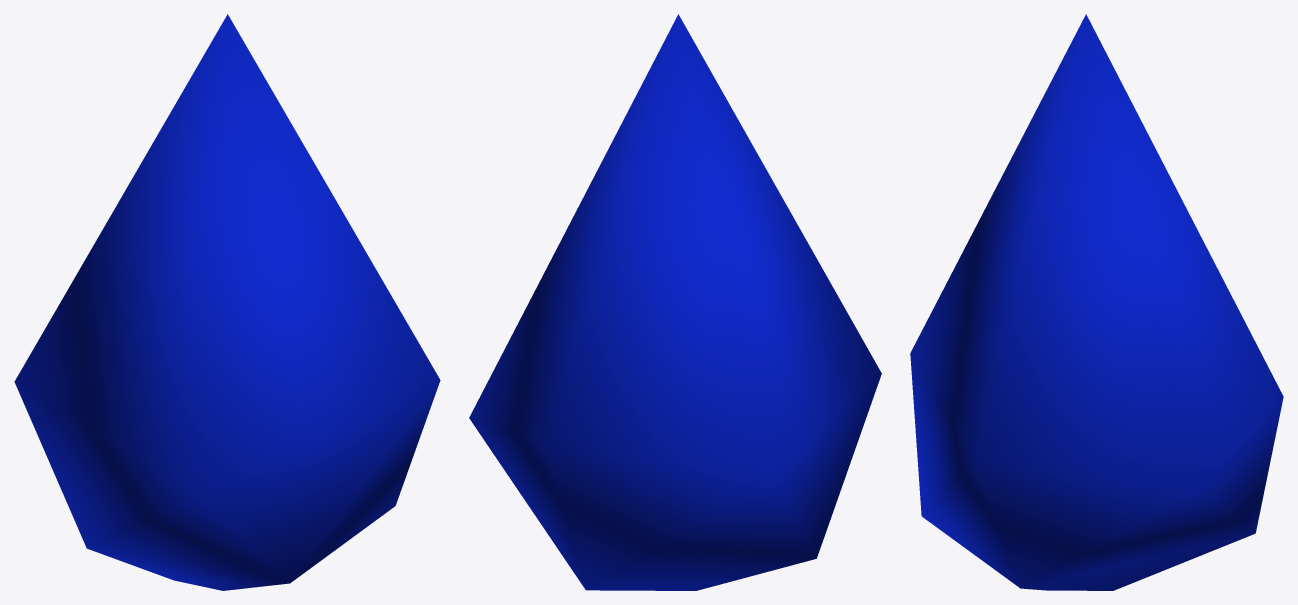
Rendered from boost_lod2.fbx.
The picture shows the model from 3 angles, left to right: view 1: azimuth 30°, elevation 25°; view 2: azimuth 150°, elevation 25°; view 3: azimuth 270°, elevation 25°; orthographic projection.
Parts seen in each view (by area): view 1: лод 2; view 2: лод 2; view 3: лод 2.
Boxes of the visible parts, box(x1,y1,x2,y2) form: лод 2: box(14, 14, 440, 590); лод 2: box(469, 14, 881, 590); лод 2: box(910, 14, 1283, 590).
Bounding box in the file's own units: 183 × 188 × 307.
